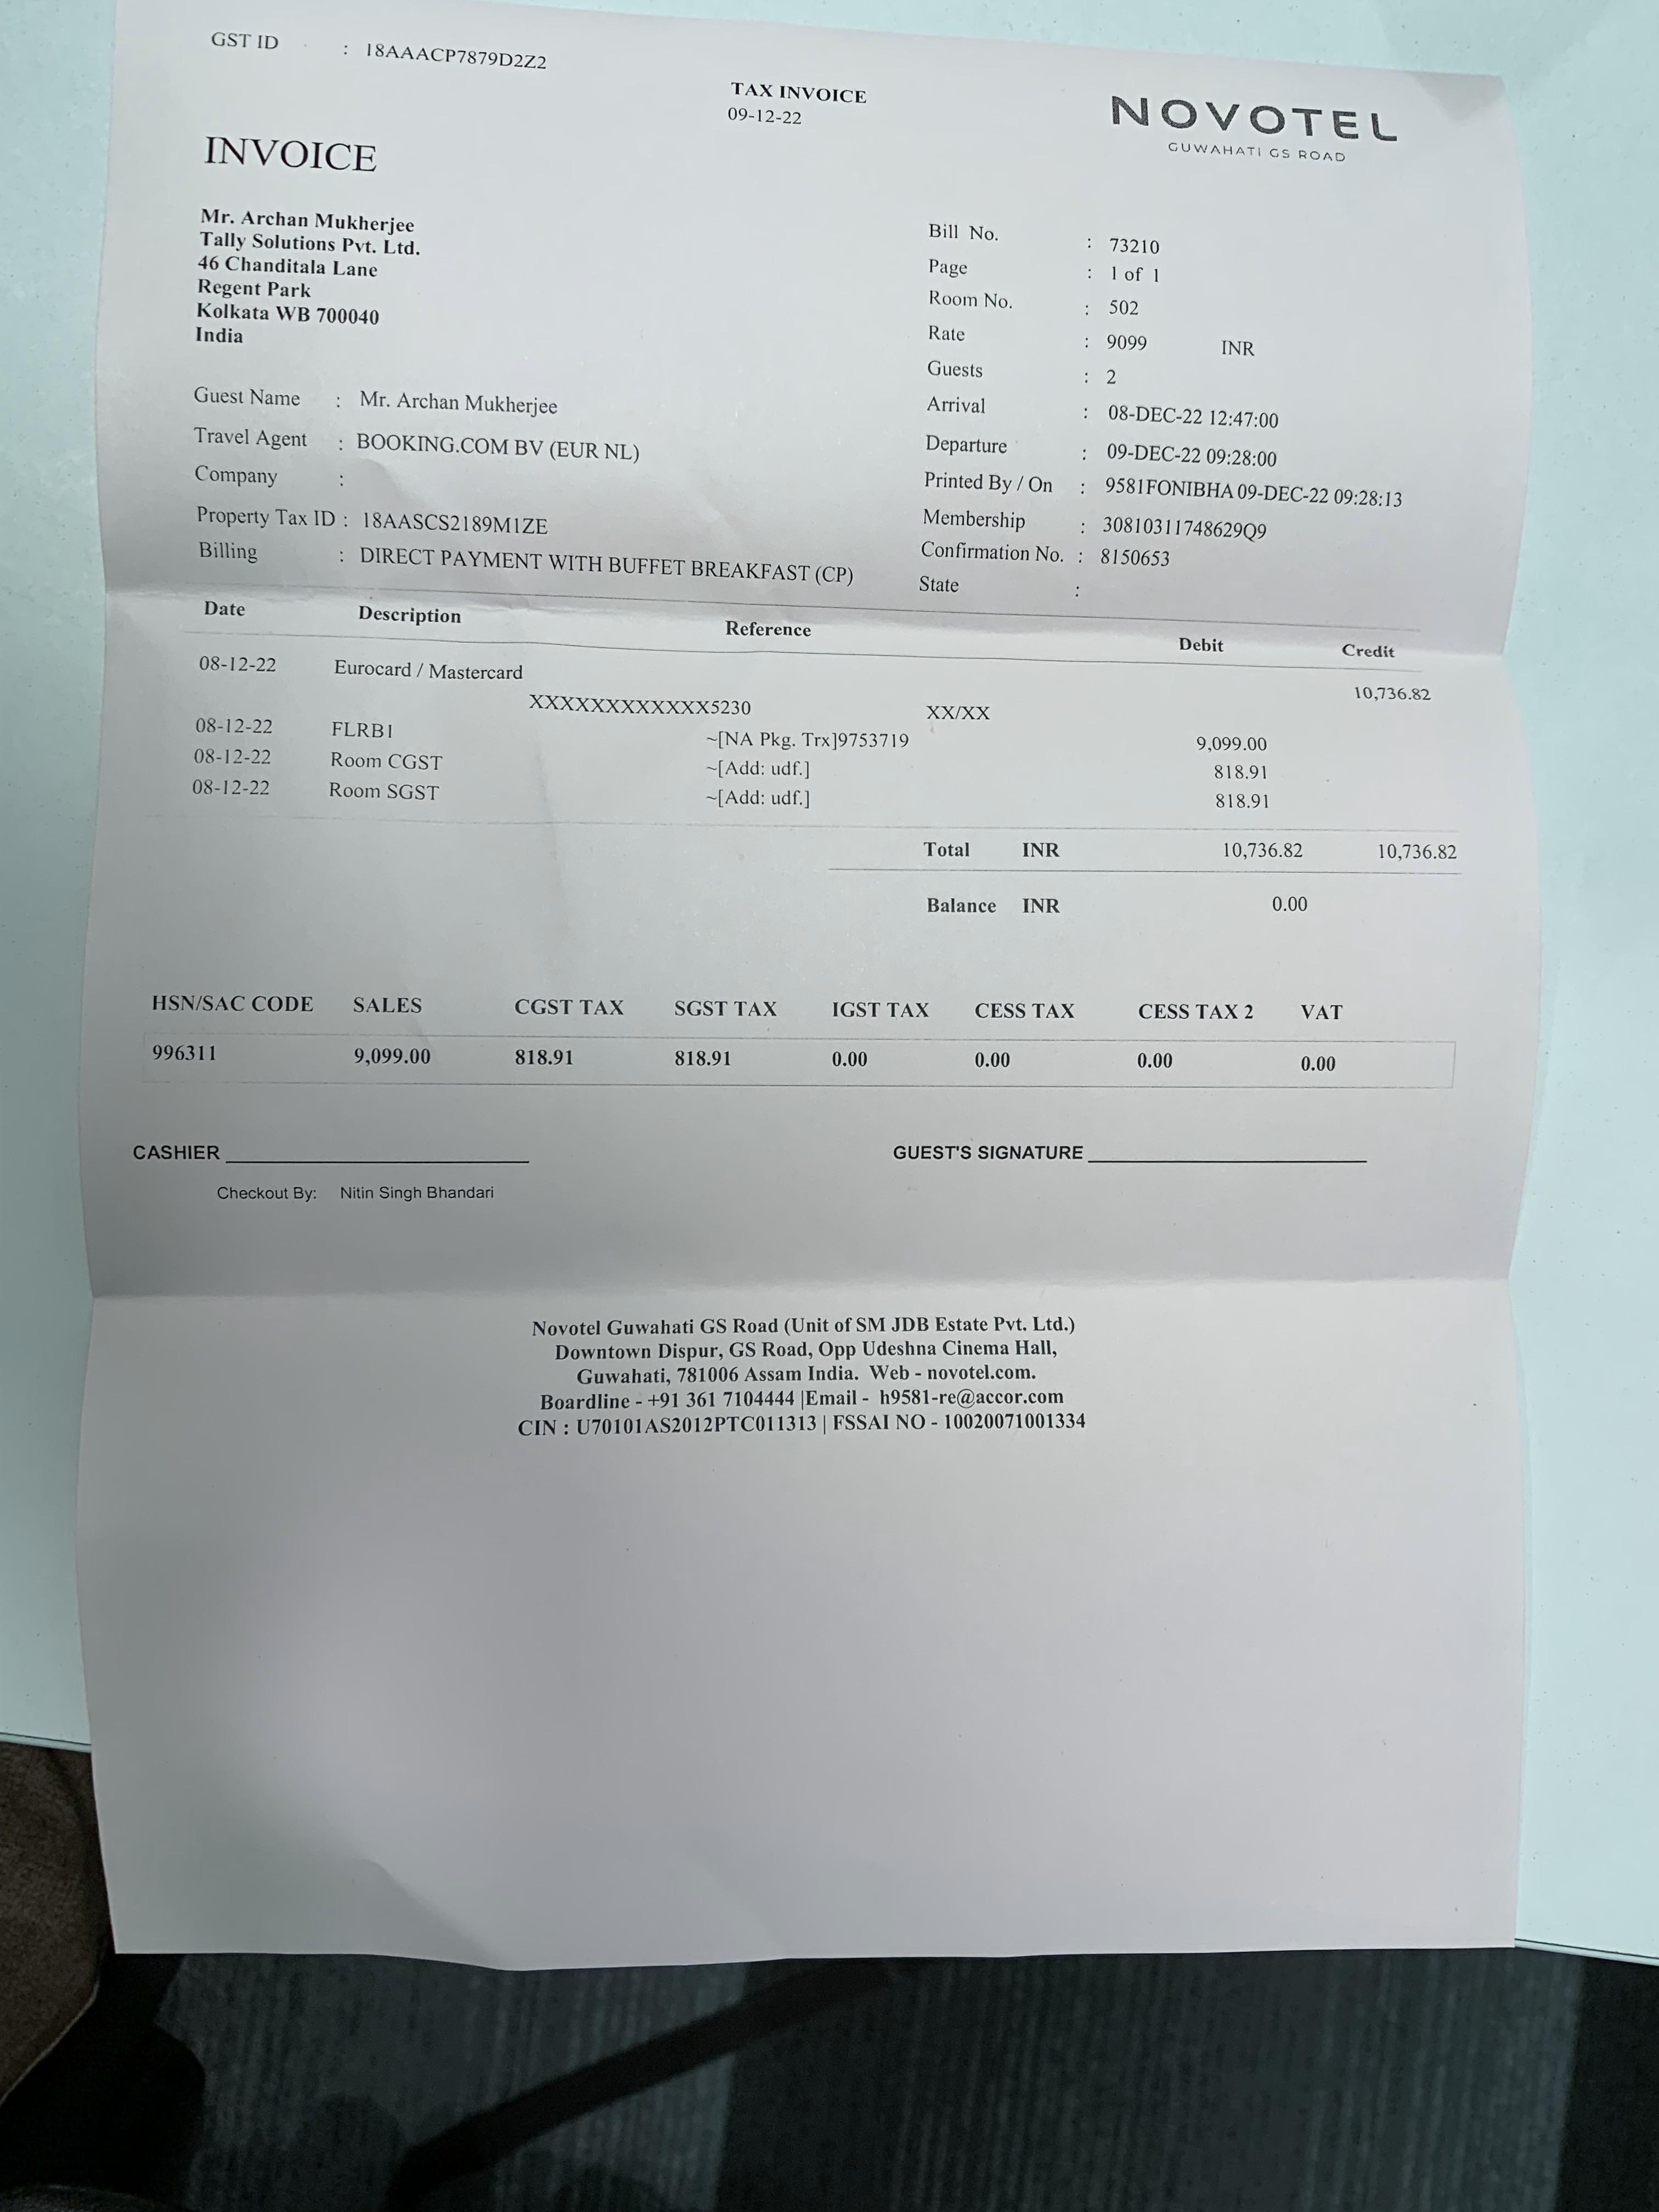InvoiceDate: (716, 101, 810, 134)
InvoiceNumber: (1101, 226, 1173, 260)
TotalAmount: (1373, 833, 1466, 867)
